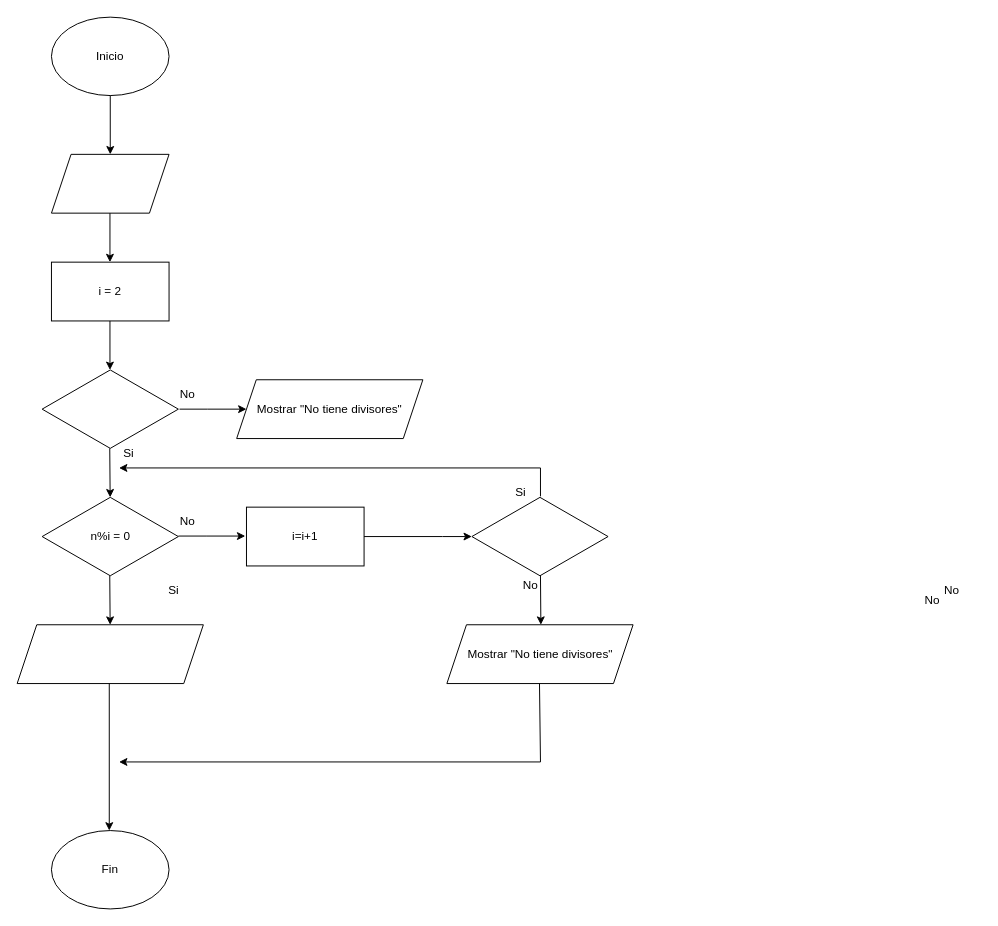
The diagram is 998 pixels wide and 926 high, and some of its shapes have lost their labels. The shapes that lost their labels are listed below. From the top down, each one's centre as x and y in pixels, then its label:
At (x=109, y=183): "Leer n".
At (x=109, y=408): "n>1?".
At (x=539, y=536): "i<n".
At (x=109, y=654): "Mostrar i".
